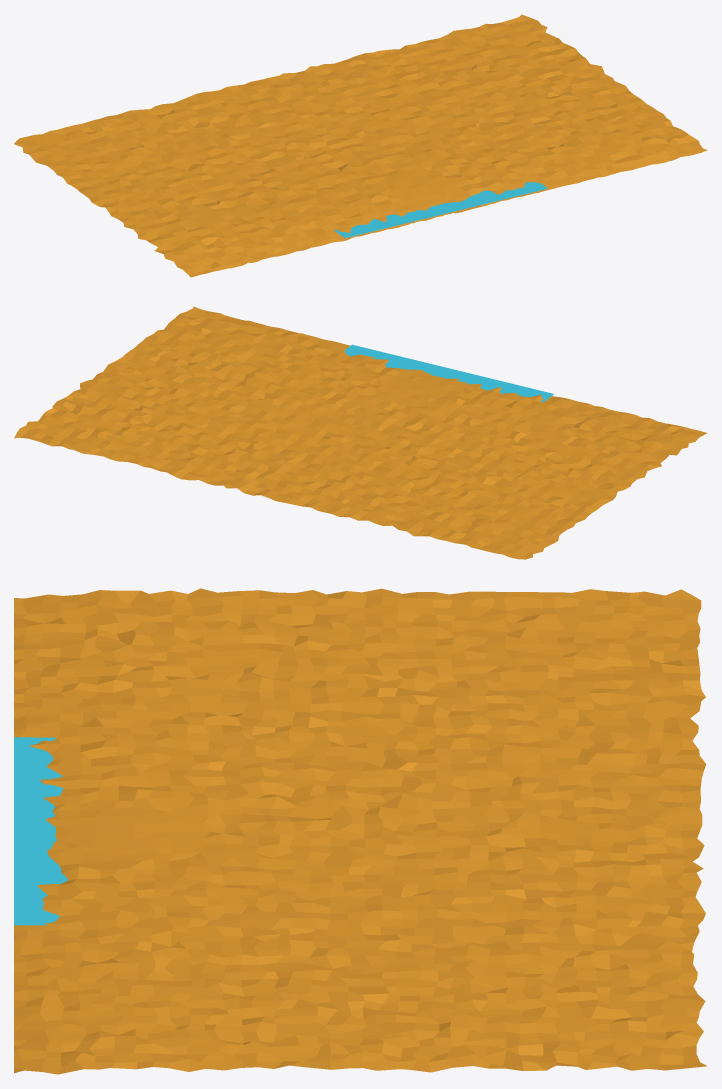
Rendered from Beach_Level_Floor.fbx.
3 views of the same model, one above another, from view 1: azimuth 30°, elevation 25°; view 2: azimuth 150°, elevation 25°; view 3: azimuth 270°, elevation 25° (orthographic). The views are drawn at different scales.
Parts seen in each view (by area): view 1: Beach_Level_Floor; view 2: Beach_Level_Floor; view 3: Beach_Level_Floor.
Part boxes in pixels (x1=…): Beach_Level_Floor: x1=14, y1=14, x2=707, y2=277; Beach_Level_Floor: x1=14, y1=306, x2=707, y2=559; Beach_Level_Floor: x1=14, y1=588, x2=707, y2=1074.
Bounding box in the file's own units: 3935 × 48.64 × 2383.
